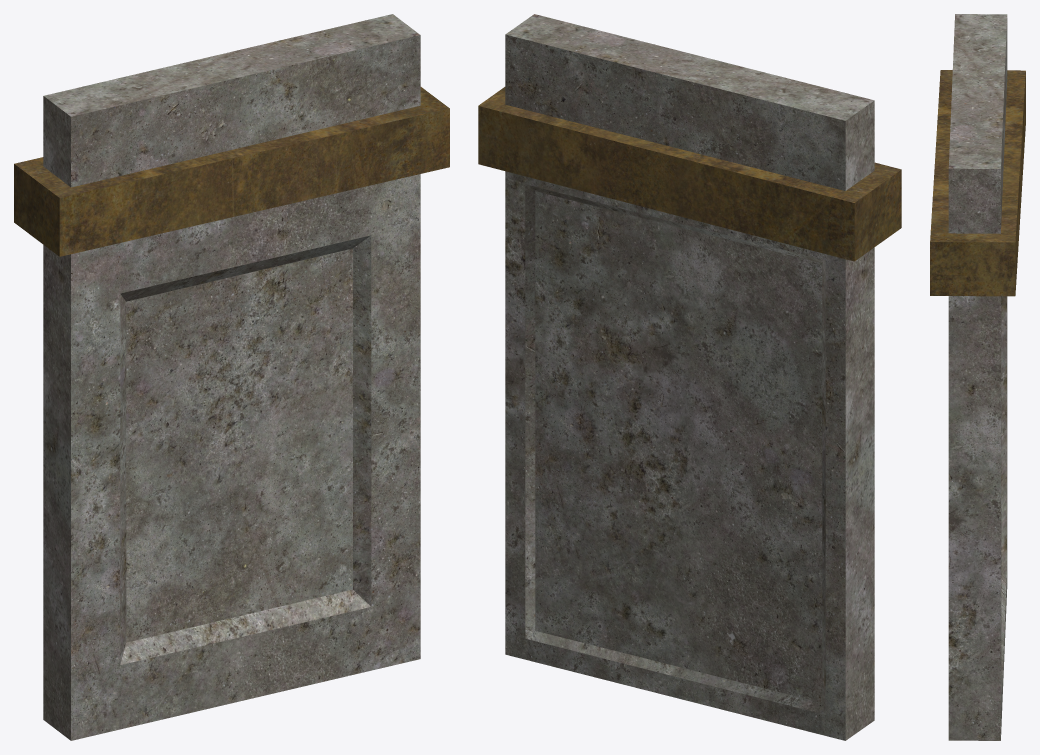
Rendered from mg_12__plate_5.fbx.
The picture shows the model from 3 angles, left to right: view 1: azimuth 30°, elevation 25°; view 2: azimuth 150°, elevation 25°; view 3: azimuth 270°, elevation 25°; orthographic projection. The views are drawn at different scales.
Visible parts, largest first — view 1: mg_12__plate_5; view 2: mg_12__plate_5; view 3: mg_12__plate_5.
Part boxes in pixels (x1,y1,x2,y2): mg_12__plate_5: [14, 14, 449, 740]; mg_12__plate_5: [478, 14, 901, 740]; mg_12__plate_5: [930, 14, 1025, 740].
Size of the model in its own units: 27.03 by 41.82 by 6.35.
